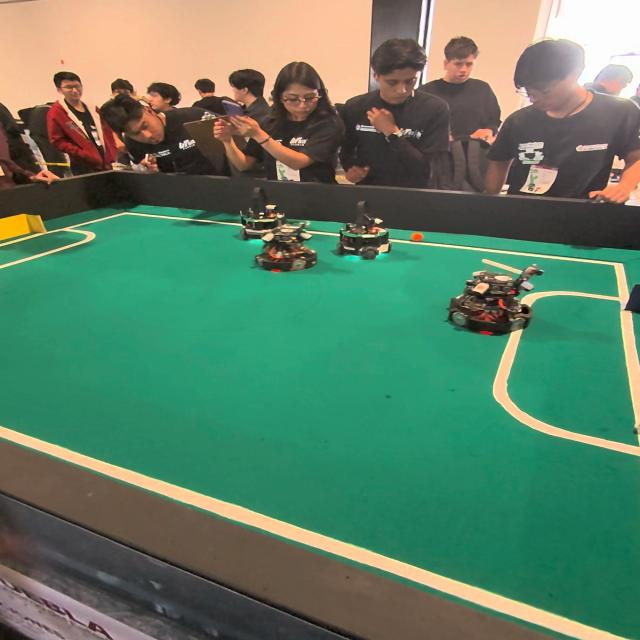Robot: (447, 255, 549, 340), (254, 218, 322, 273), (231, 186, 293, 241), (338, 202, 394, 258)
pelota: (411, 233, 423, 241)
